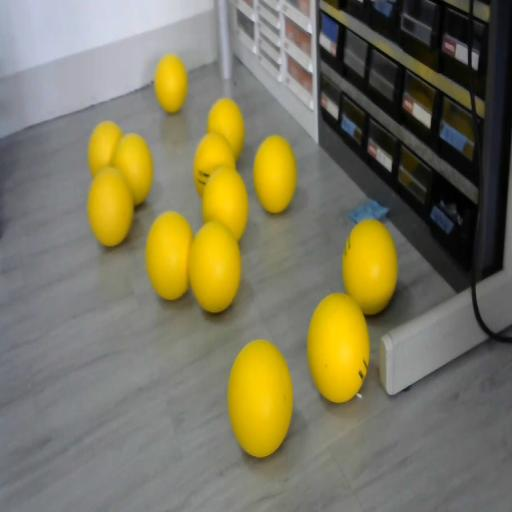FUEL: (227, 338, 293, 456), (306, 292, 370, 402), (342, 218, 398, 315), (187, 219, 242, 313), (144, 209, 194, 301), (253, 134, 297, 214), (112, 133, 154, 206), (206, 98, 245, 160), (154, 53, 187, 113)
